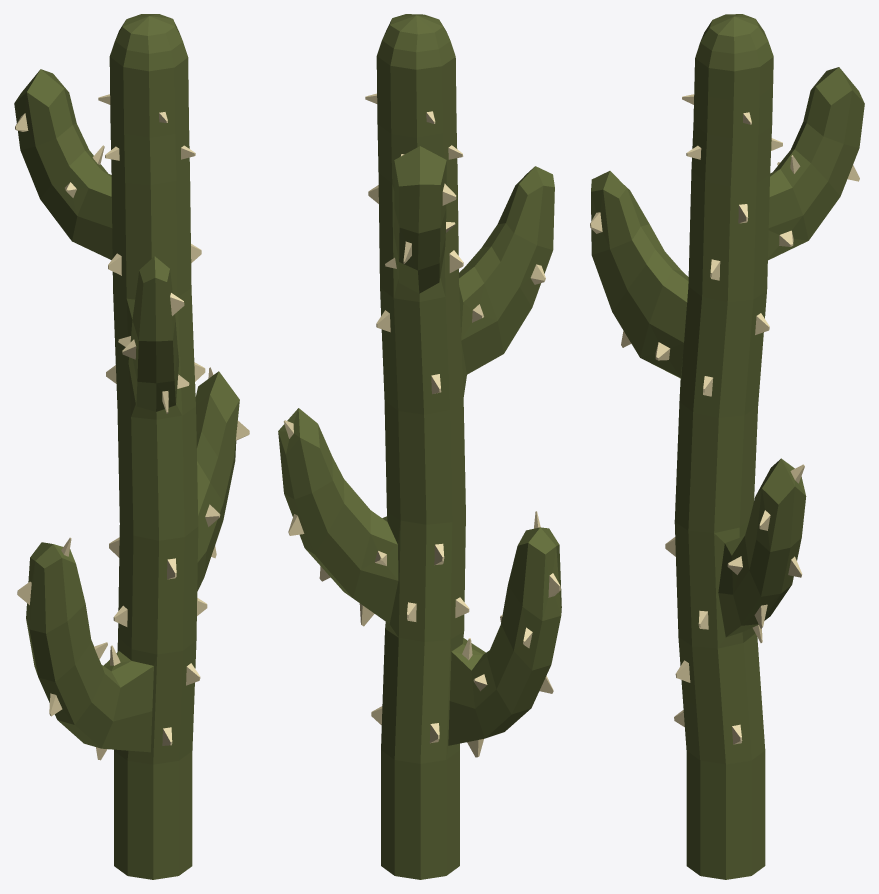
Rendered from Cactus_1_1_3_Colored.fbx.
3 views of the same model, side by side, from view 1: azimuth 30°, elevation 25°; view 2: azimuth 150°, elevation 25°; view 3: azimuth 270°, elevation 25° (orthographic).
Visible parts, largest first — view 1: Cactus_1_1_3; view 2: Cactus_1_1_3; view 3: Cactus_1_1_3.
Boxes of the visible parts, left/top/right/bottom form: Cactus_1_1_3: left=14, top=14, right=249, bottom=879; Cactus_1_1_3: left=278, top=14, right=561, bottom=879; Cactus_1_1_3: left=590, top=14, right=864, bottom=879.
Bounding box in the file's own units: 92.4 × 297 × 87.28.
